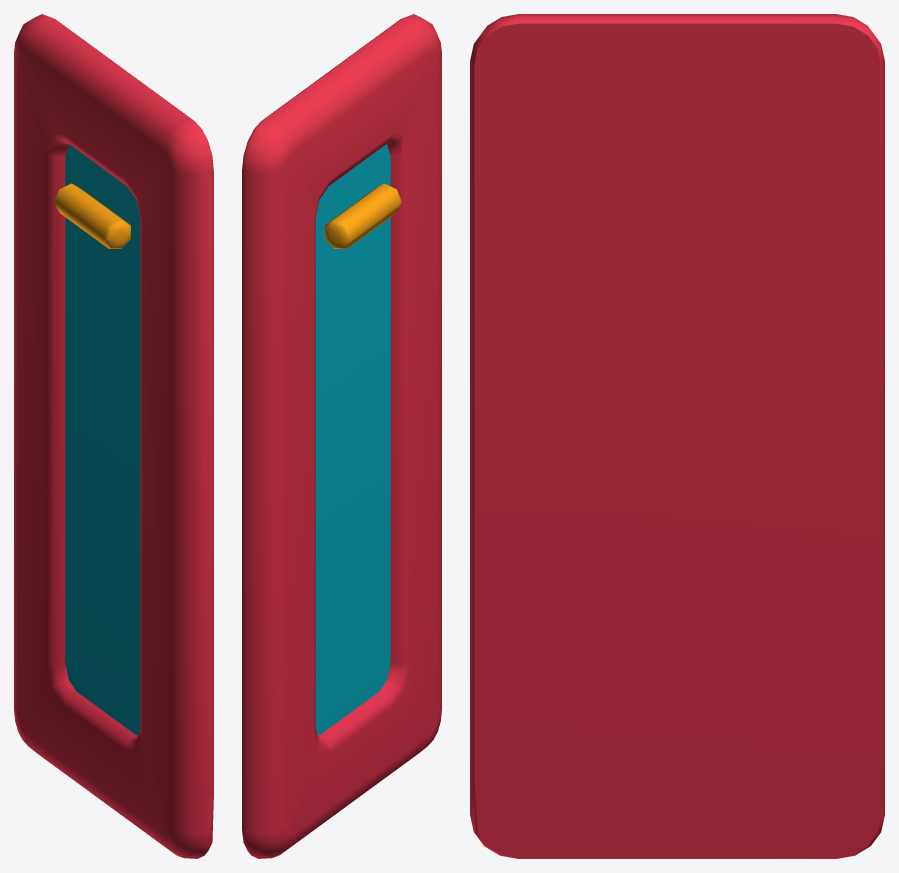
File: Kitchen_C_01_Door_02.fbx
3 renders of one model, left to right at view 1: azimuth 30°, elevation 25°; view 2: azimuth 150°, elevation 25°; view 3: azimuth 270°, elevation 25°, orthographic. The views are drawn at different scales.
Visible parts, largest first — view 1: Kitchen_C_01_Door_02; view 2: Kitchen_C_01_Door_02; view 3: Kitchen_C_01_Door_02.
Part boxes in pixels (x1,y1,x2,y2): Kitchen_C_01_Door_02: (14, 14, 213, 858); Kitchen_C_01_Door_02: (242, 14, 441, 858); Kitchen_C_01_Door_02: (470, 14, 884, 858).
Bounding box in the file's own units: 4.44 × 30.2 × 67.64.
